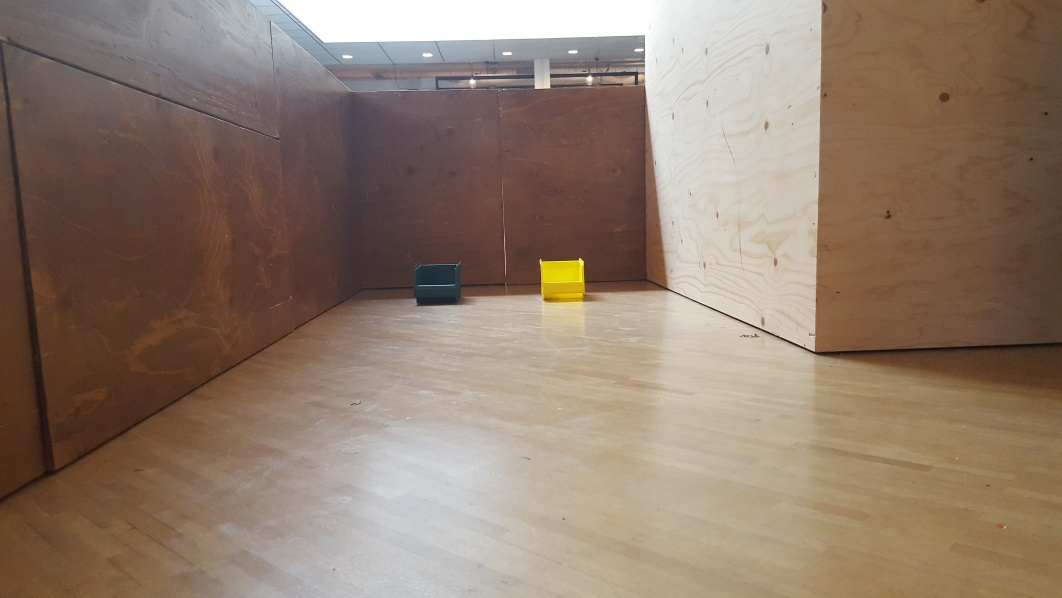tray: (411, 259, 471, 305), (537, 256, 588, 300)
